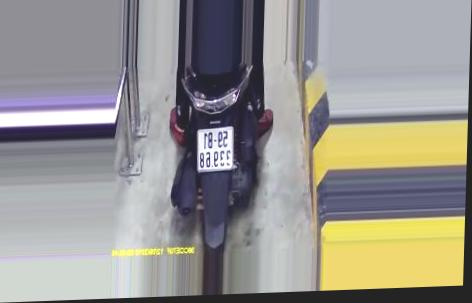License_Plate: (193, 123, 242, 174)
